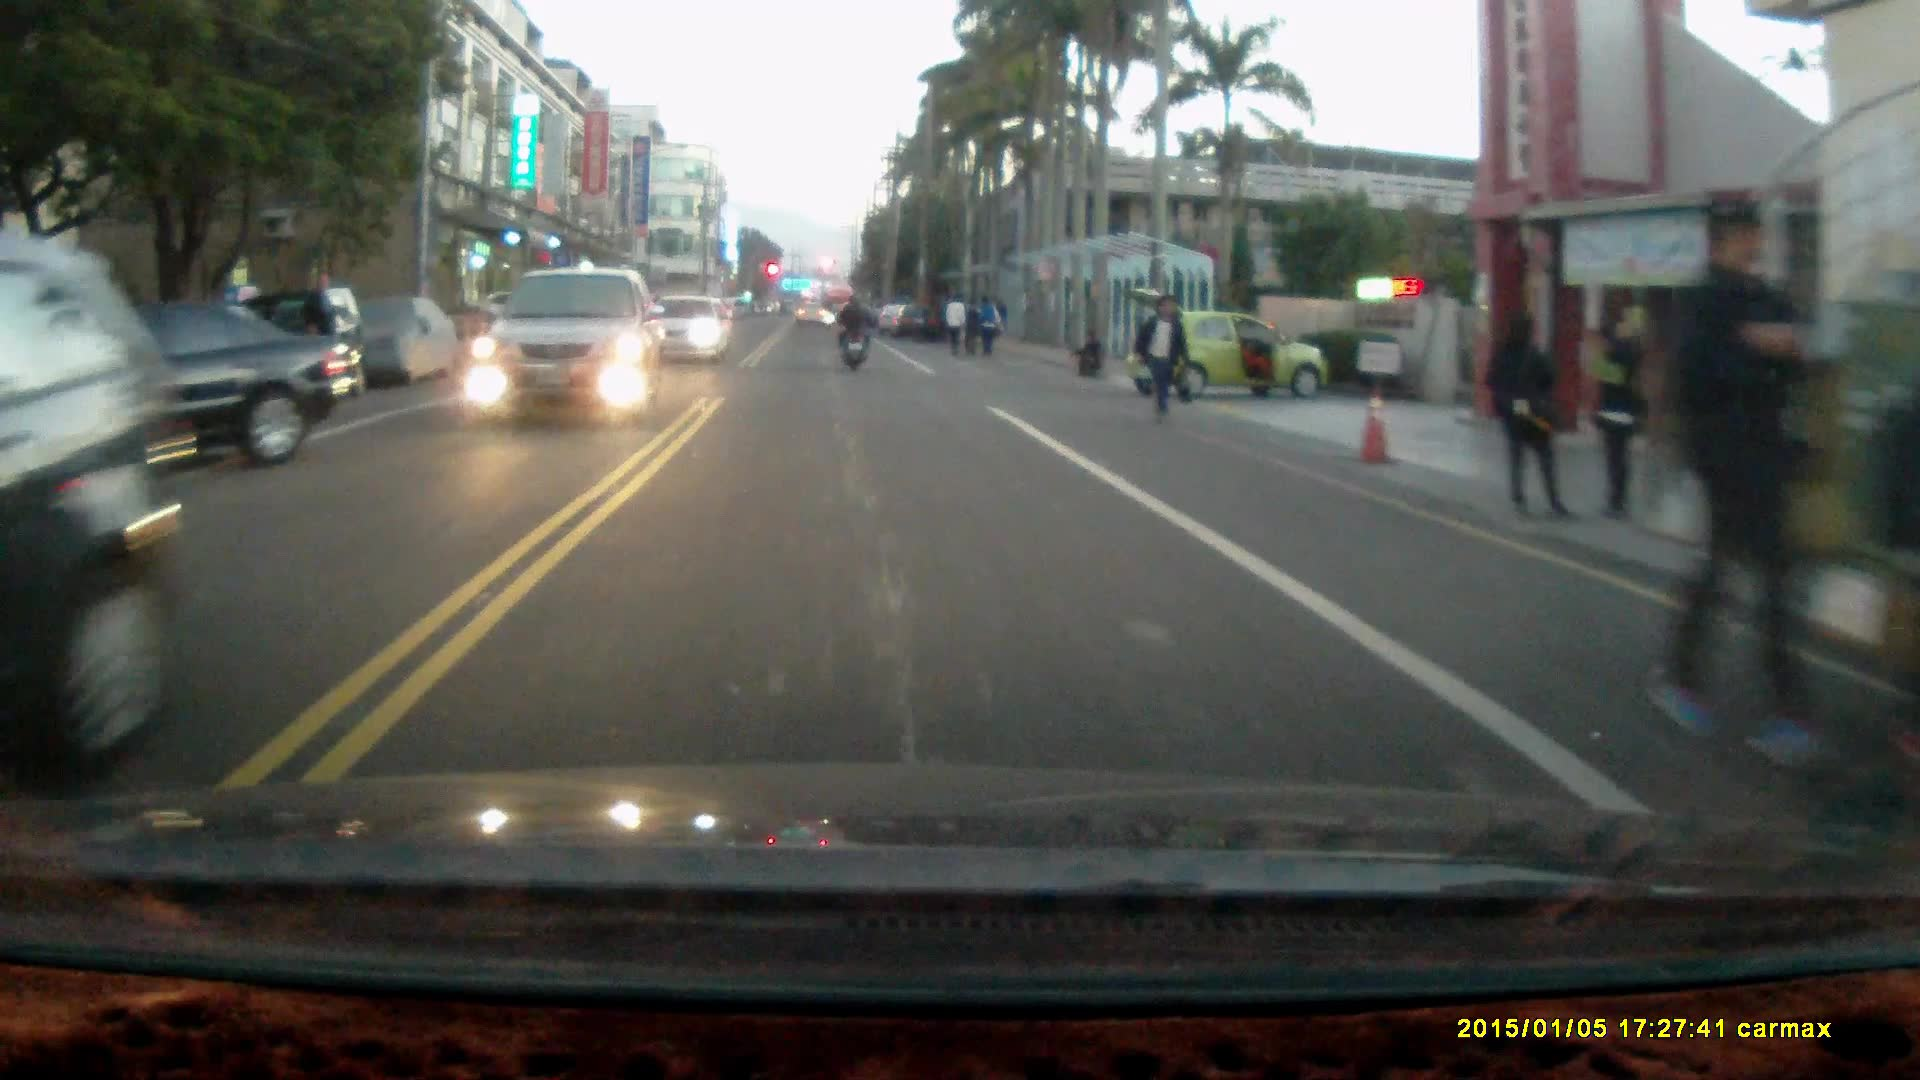pedestrian: (1657, 192, 1831, 781), (1486, 307, 1575, 522), (1591, 311, 1644, 520), (1130, 294, 1188, 426), (975, 292, 1001, 359), (1073, 328, 1105, 376), (942, 290, 964, 355), (962, 298, 982, 358)
rider: (835, 291, 872, 371)
vehicle: (0, 293, 353, 485), (468, 266, 670, 421), (1125, 284, 1336, 399), (644, 295, 732, 365)
